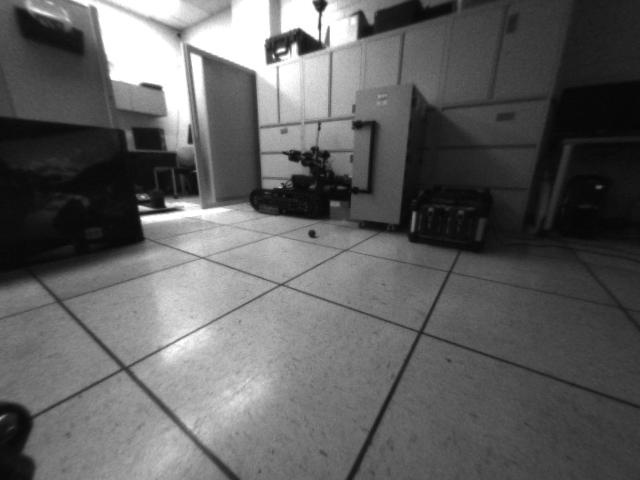dogtoy: (303, 223, 323, 240)
